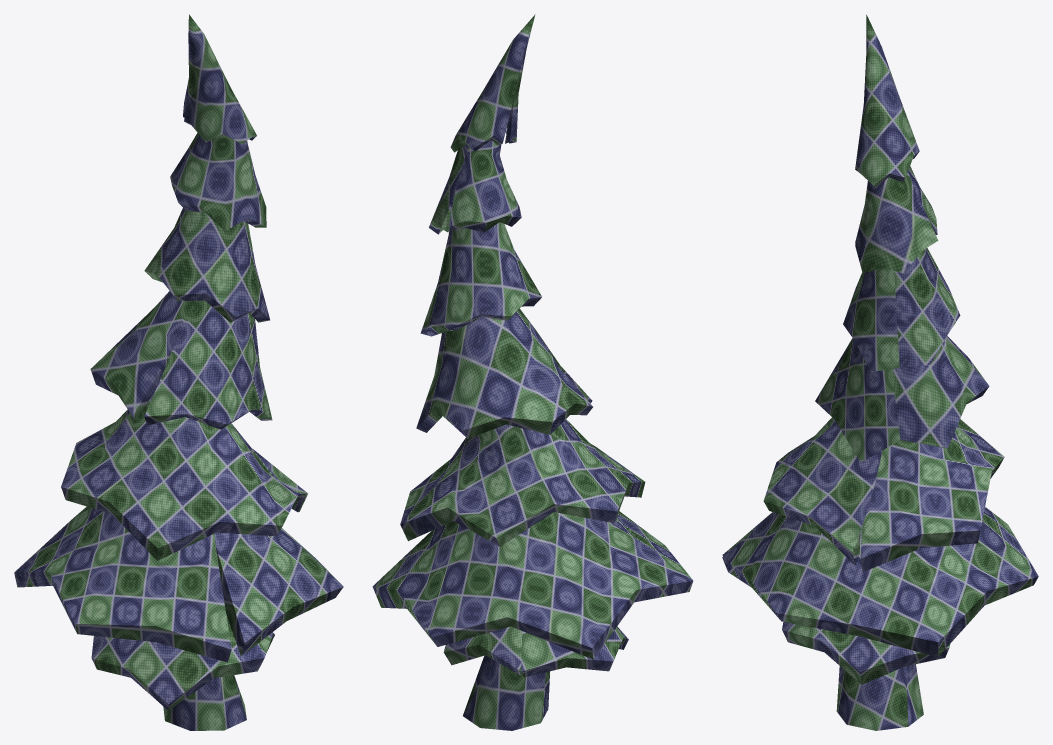
The model's file is SM_Tree_03.FBX.
3 renders of one model, left to right at view 1: azimuth 30°, elevation 25°; view 2: azimuth 150°, elevation 25°; view 3: azimuth 270°, elevation 25°, orthographic. The views are drawn at different scales.
Visible parts, largest first — view 1: SM_Tree_03; view 2: SM_Tree_03; view 3: SM_Tree_03.
Part boxes in pixels (box(x1,y1,x2,y2)): SM_Tree_03: box(14, 14, 343, 730); SM_Tree_03: box(372, 14, 693, 730); SM_Tree_03: box(722, 14, 1038, 730).
Size of the model in its own units: 72.06 by 184 by 76.73.
Materials: 1 (1 with a texture image).
